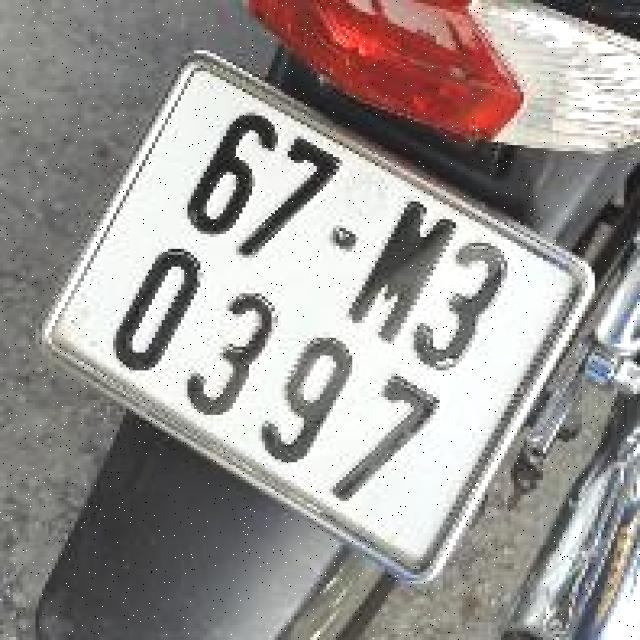0: (99, 230, 229, 385)
3: (170, 274, 303, 433), (400, 228, 532, 381)
6: (170, 100, 293, 252)
7: (313, 361, 469, 515), (229, 126, 356, 276)
9: (245, 317, 378, 480)
M: (334, 185, 475, 354)
